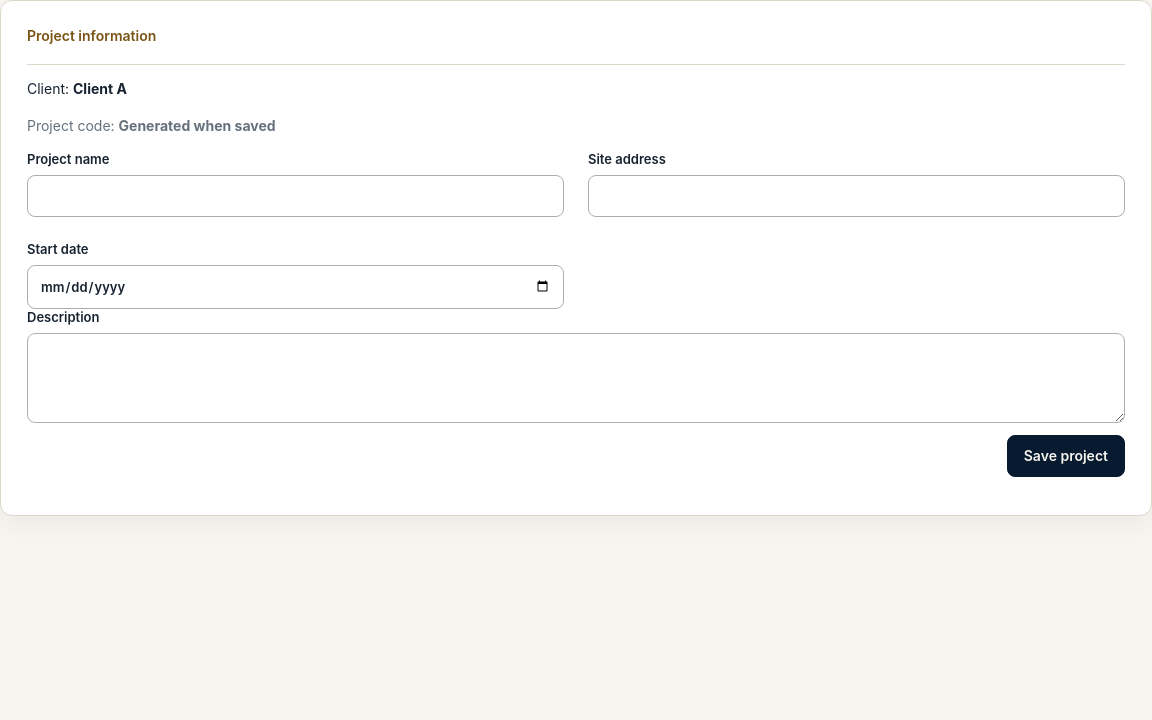
Test: Client and Project forms › locks the project owner and validates project name
Expected: the text "Client A" is shown, [73,80,127,97]
Click the button "Save project".
click(1066, 456)  # box [1007,435,1125,477]
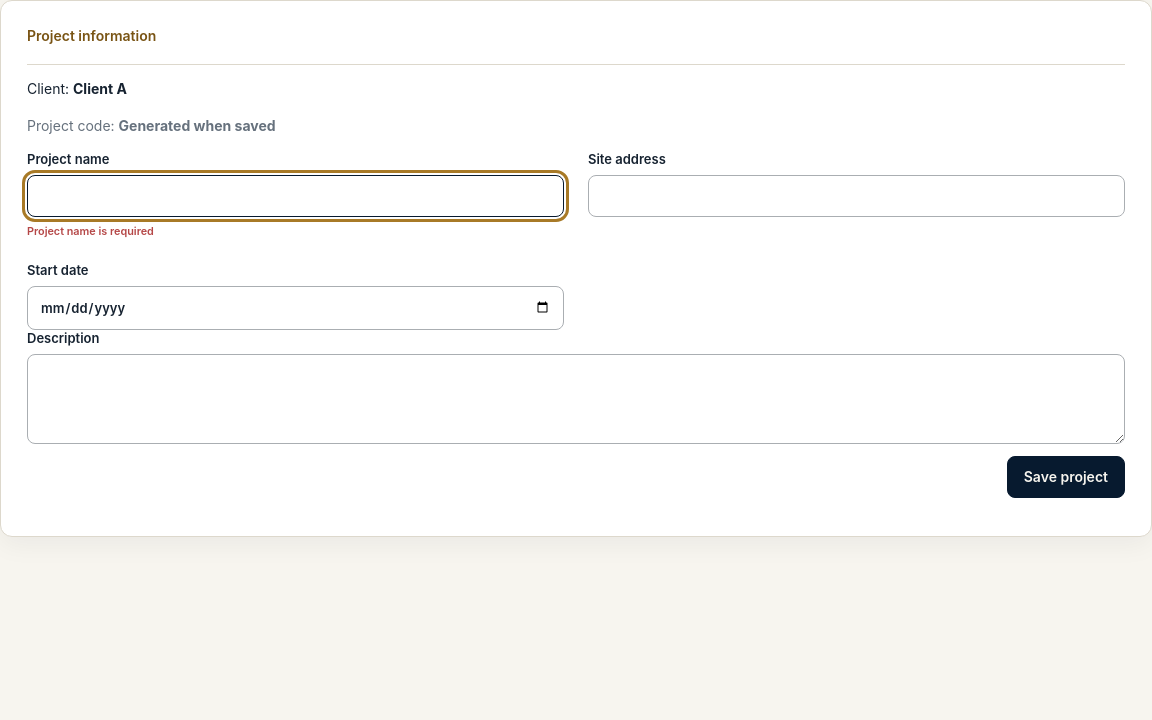
Now the text "Project name is required" is shown, box [27,225,154,238]
